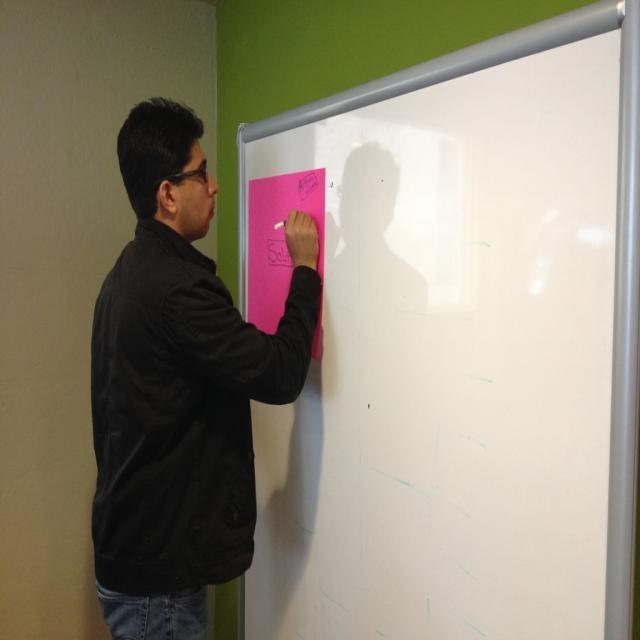Whiteboard: (239, 0, 639, 639)
